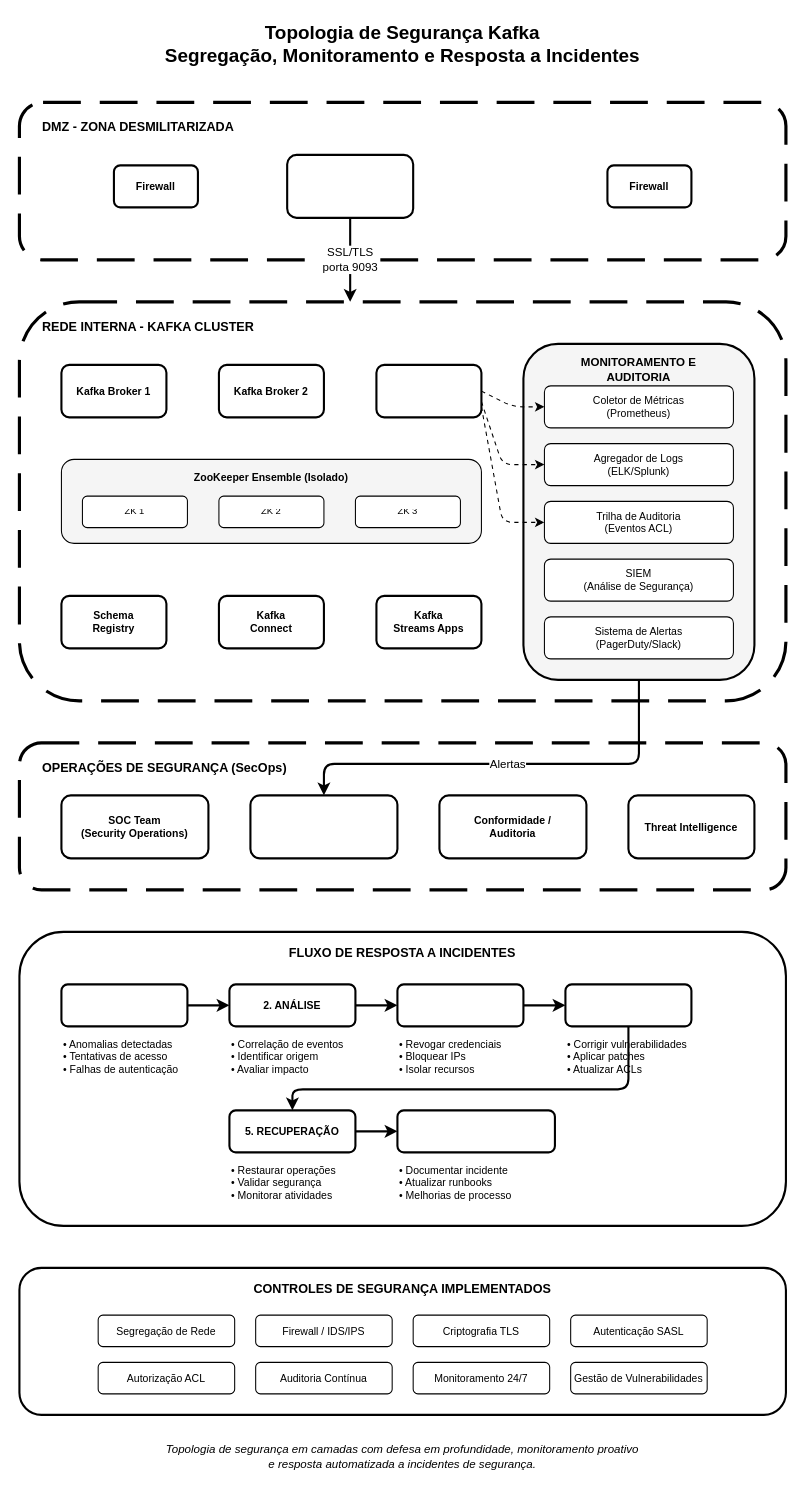
The diagram is 805 pixels wide and 1495 high, and some of its shapes have lost their labels. Each missing label, with the box of its shape:
1. DETECÇÃO: (60, 983, 188, 1027)
3. CONTENÇÃO: (396, 983, 524, 1027)
4. REMEDIAÇÃO: (564, 983, 692, 1027)
6. LIÇÕES APRENDIDAS: (396, 1109, 555, 1153)
Kafka Broker 3: (375, 363, 482, 418)
Load Balancer API Gateway: (286, 153, 414, 218)
Resposta a Incidentes: (249, 794, 398, 859)
